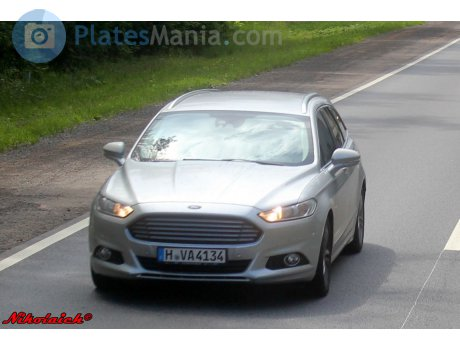License Plates: (165, 247, 226, 258)
